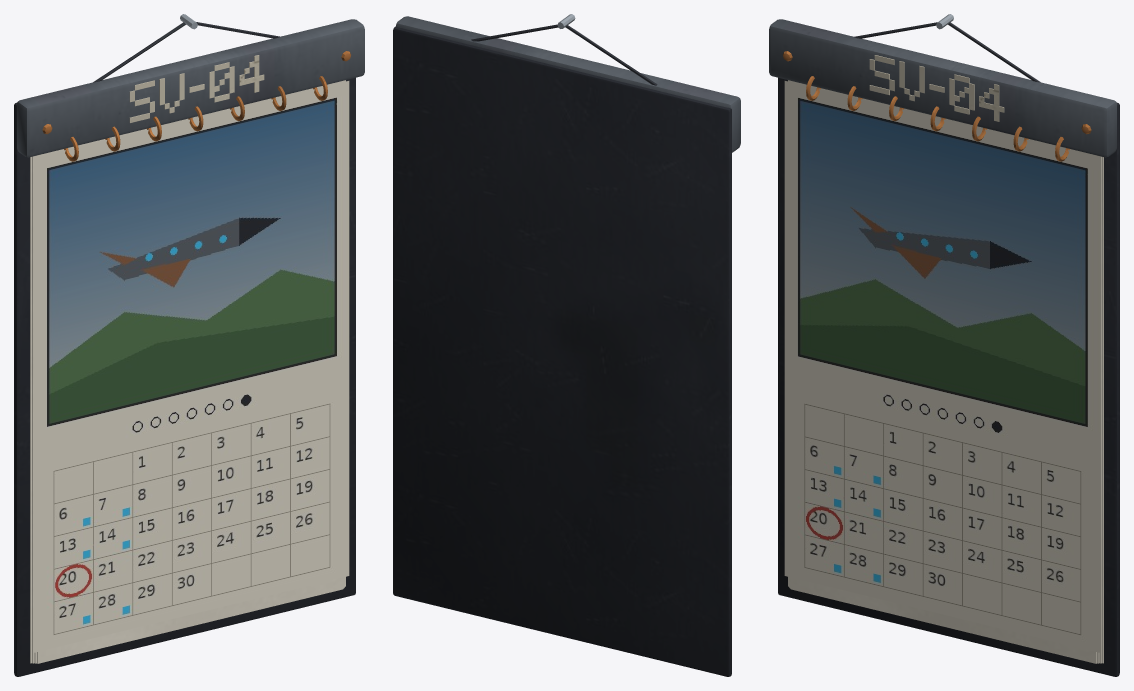
The model's file is calendar.glb.
3 views of the same model, side by side, from view 1: azimuth 30°, elevation 25°; view 2: azimuth 150°, elevation 25°; view 3: azimuth 330°, elevation 25° (orthographic).
Visible parts, largest first — view 1: CalendarBody; view 2: CalendarBody; view 3: CalendarBody.
Part boxes in pixels (left/top/right/bottom): CalendarBody: left=14, top=14, right=364, bottom=676; CalendarBody: left=393, top=14, right=740, bottom=676; CalendarBody: left=769, top=14, right=1119, bottom=676.
Size of the model in its own units: 0.41 by 0.714 by 0.0402.
8 materials, 8 textured.
